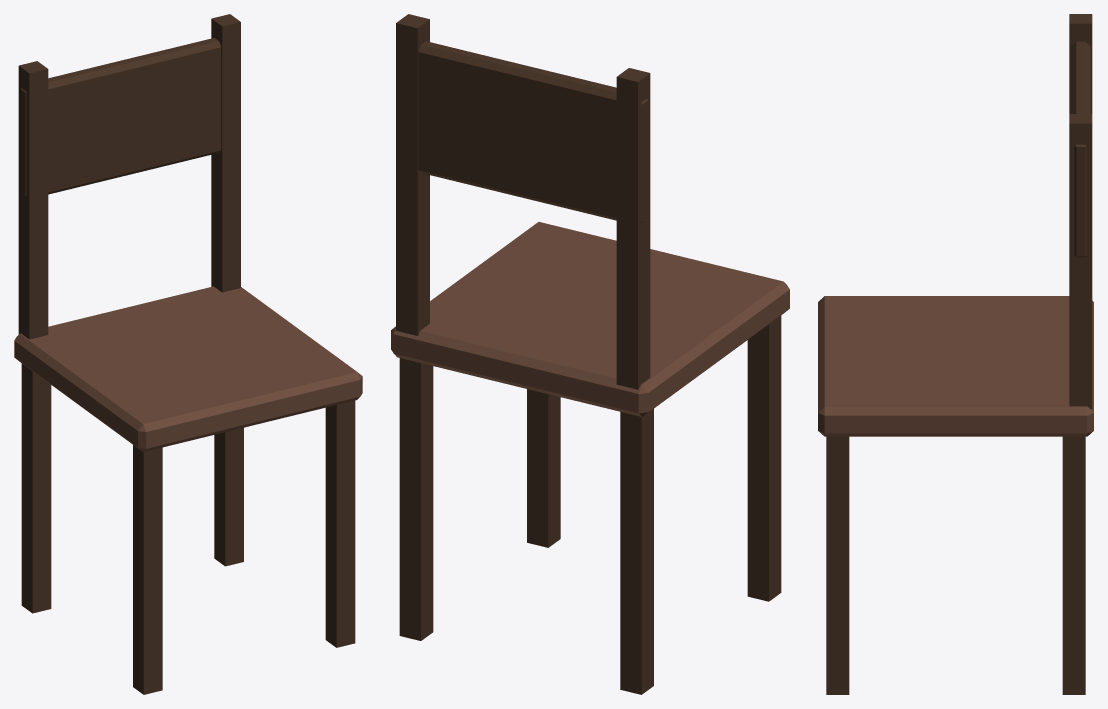
File: chair.glb
3 renders of one model, left to right at view 1: azimuth 30°, elevation 25°; view 2: azimuth 150°, elevation 25°; view 3: azimuth 270°, elevation 25°, orthographic. The views are drawn at different scales.
Visible parts, largest first — view 1: Chair; view 2: Chair; view 3: Chair.
Part boxes in pixels (x1,y1,x2,y2): Chair: (14,14,362,694); Chair: (391,14,789,694); Chair: (818,14,1093,694).
Bounding box in the file's own units: 0.42 × 0.96 × 0.42.
